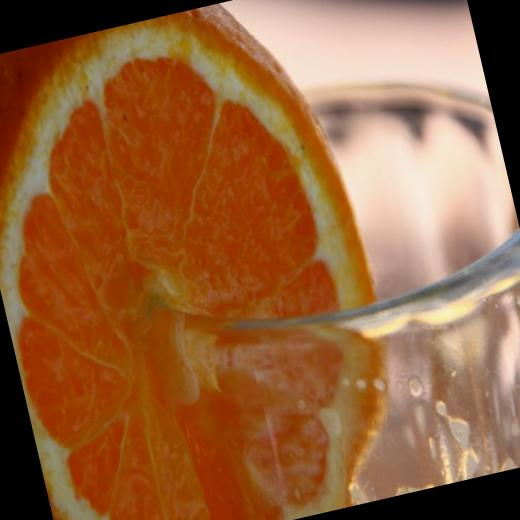Grape: (0, 0, 423, 520)
